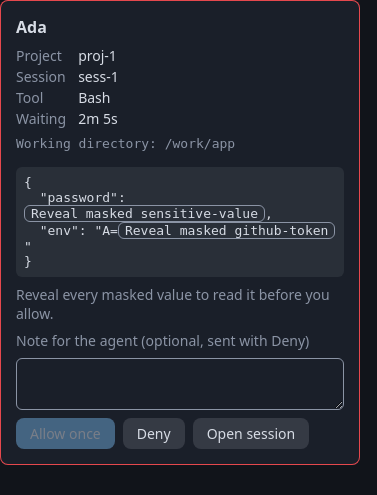
Test: ActionCard: masked values sealed whole › keeps Allow off until a sealed value and a text-pass secret are both revealed
The image size is (377, 495).
Expected: the element with test id "action-card" does not show "hunter2-nested"
Click the button "Reveal masked sensitive-value": (144, 214) left=24, top=205, right=265, bottom=222
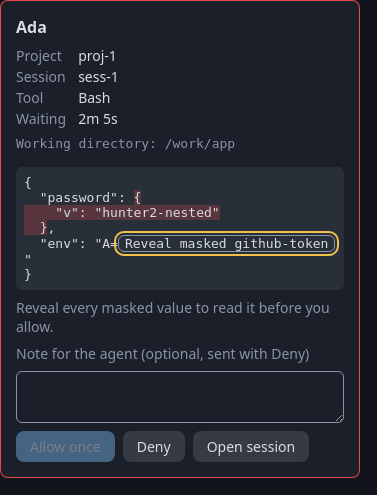
Expected: the button "Allow once" is disabled, left=16, top=431, right=115, bottom=462
Click the button "Reveal masked github-token": (227, 244) left=118, top=235, right=335, bottom=252
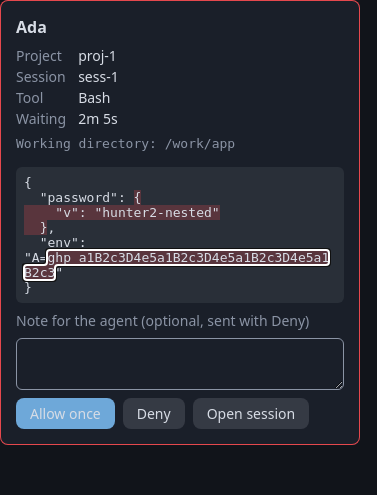
Now the button "Allow once" is enabled, box left=16, top=398, right=115, bottom=429
